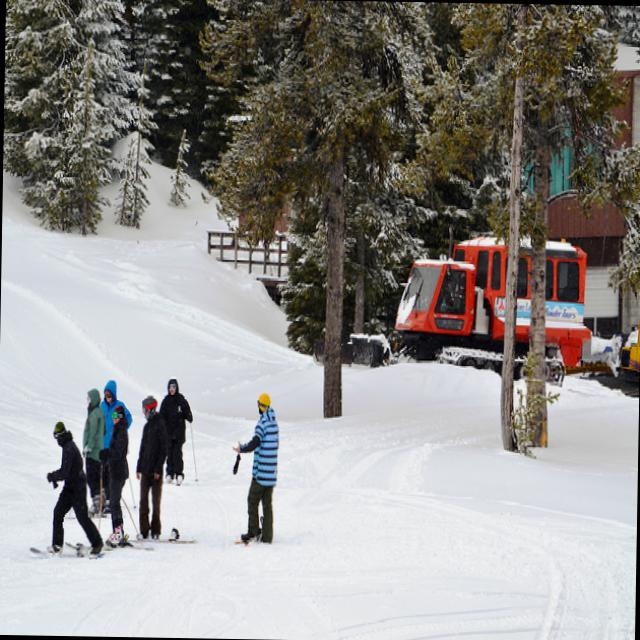Vehicle: (392, 228, 594, 382)
